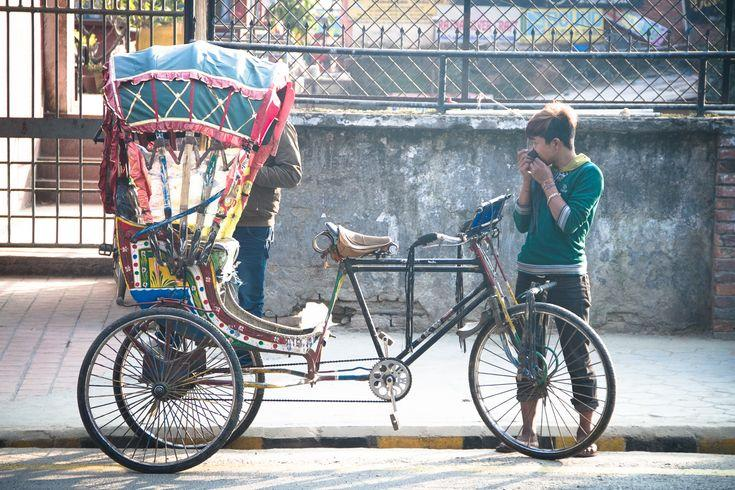Rickshaw: (77, 42, 615, 471)
